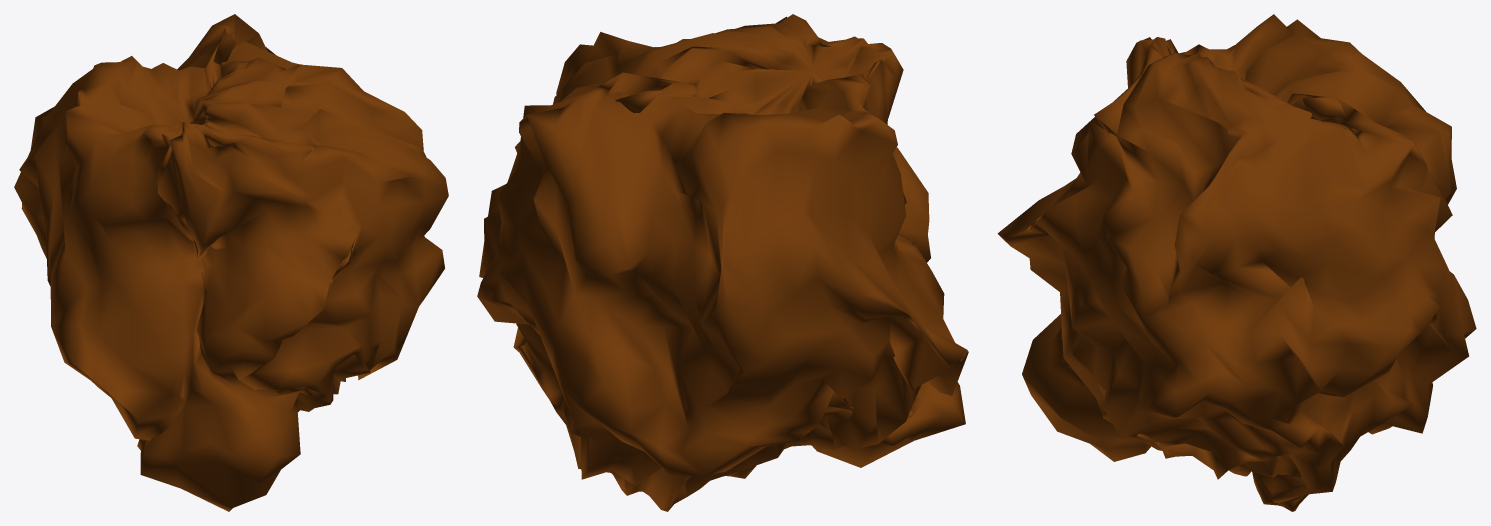
The model's file is Astroid Model 03.FBX.
The picture shows the model from 3 angles, left to right: view 1: azimuth 30°, elevation 25°; view 2: azimuth 150°, elevation 25°; view 3: azimuth 270°, elevation 25°; orthographic projection. The views are drawn at different scales.
Parts seen in each view (by area): view 1: Sphere001; view 2: Sphere001; view 3: Sphere001.
Boxes of the visible parts, bbox=[...] form: Sphere001: bbox=[14, 14, 448, 511]; Sphere001: bbox=[477, 14, 968, 511]; Sphere001: bbox=[997, 14, 1476, 511].
Size of the model in its own units: 102 by 102 by 106.
